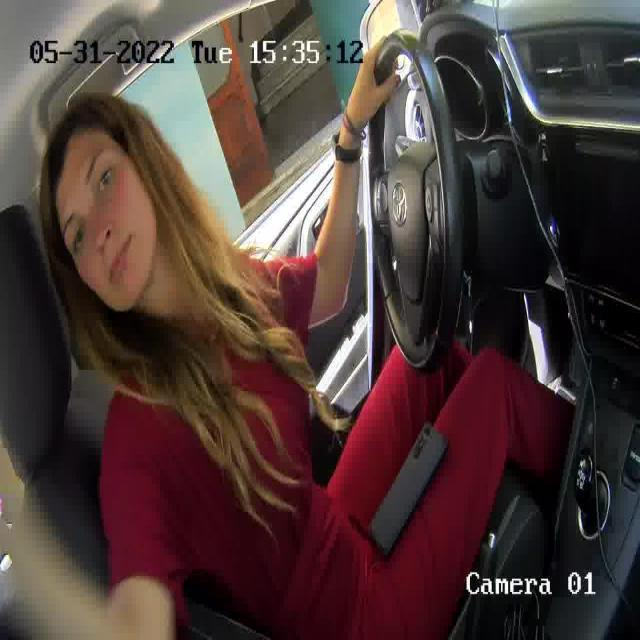Eye-Open: (95, 168, 117, 189), (70, 230, 85, 244)
Inattentive: (33, 94, 208, 312)
Normal: (108, 236, 136, 286)
